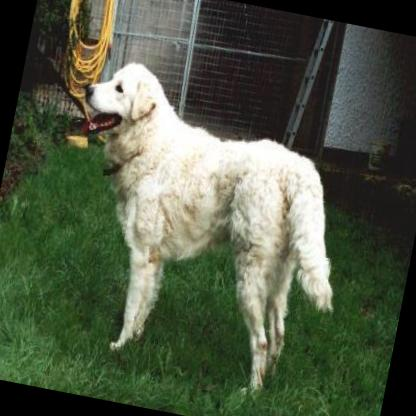kuvasz: (32, 47, 374, 408)
